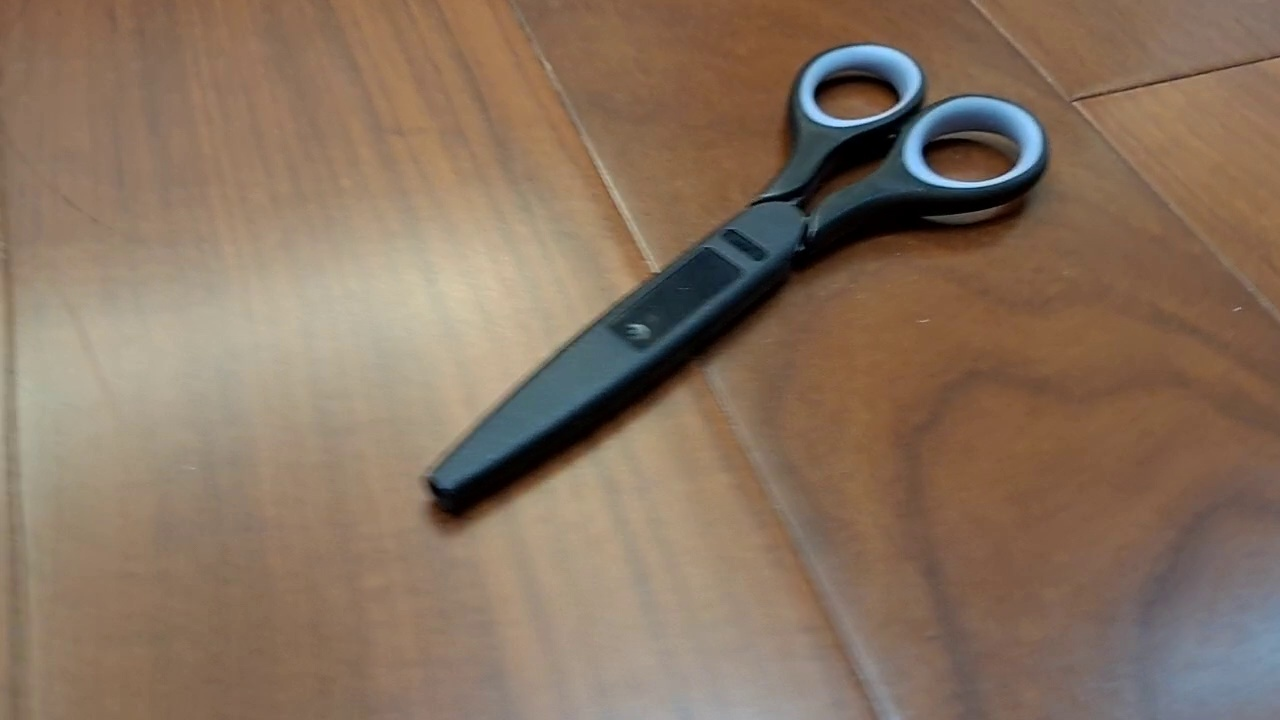scissors: (421, 41, 1050, 520)
